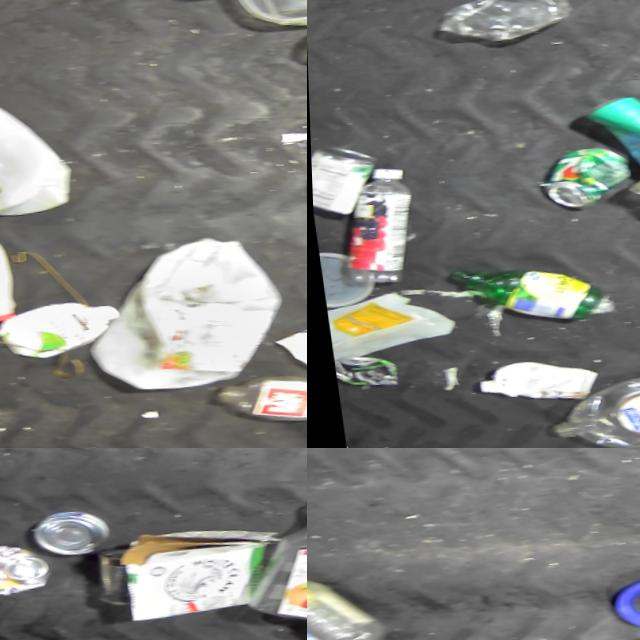can: (537, 134, 640, 204), (23, 499, 110, 563), (589, 82, 640, 180), (0, 538, 44, 603)
milk_jug: (86, 223, 297, 397), (0, 81, 73, 222)
plastic_bottle: (541, 356, 640, 448), (246, 475, 307, 619), (307, 547, 384, 640)
